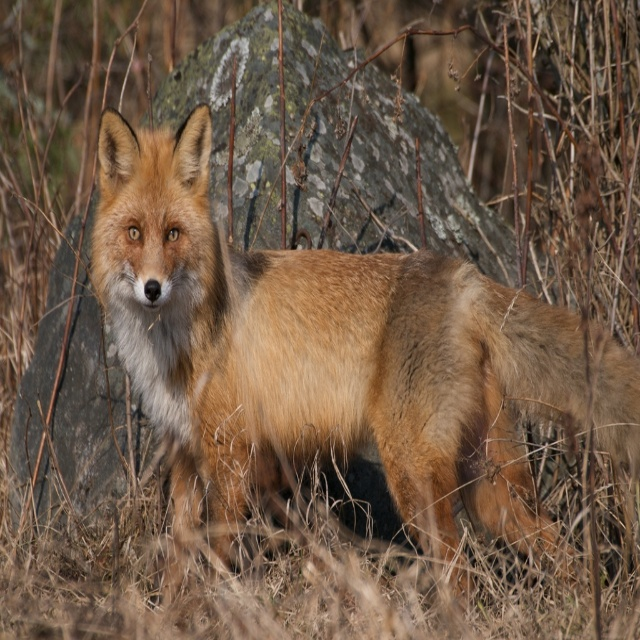Fox: (90, 102, 640, 618)
